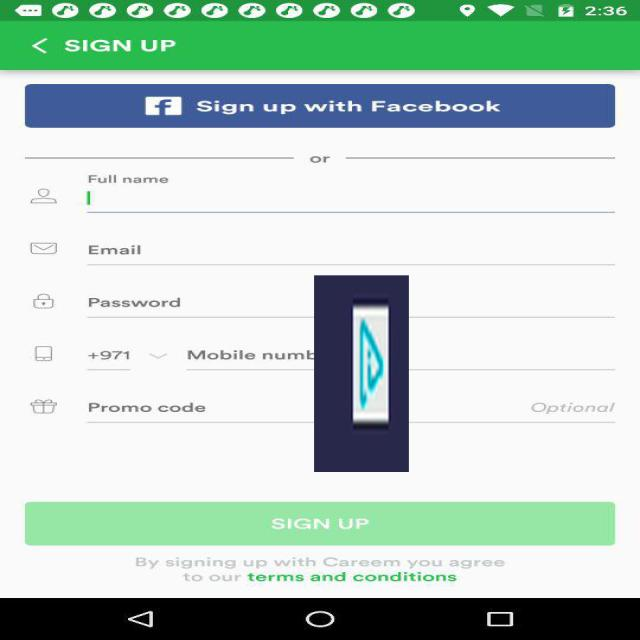sneaking: (314, 275, 409, 472)
